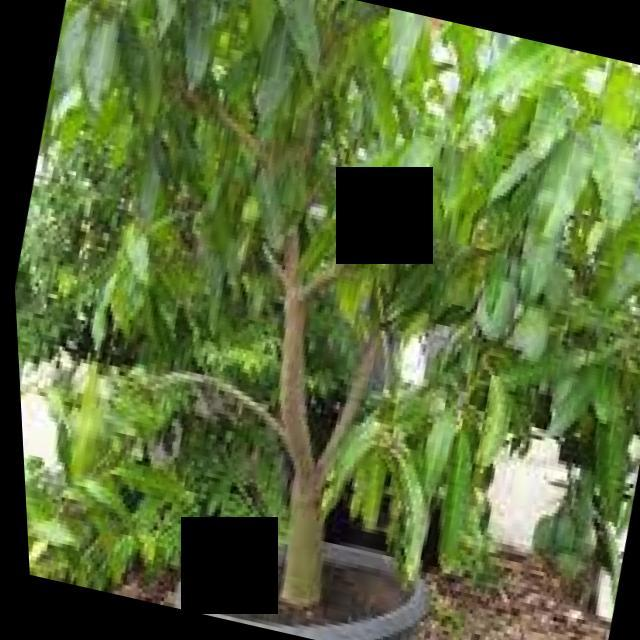Tree: (1, 1, 636, 640)
